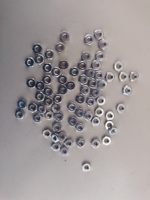nut: (26, 78, 37, 89), (60, 31, 70, 42), (55, 43, 66, 53), (45, 49, 55, 60), (32, 44, 43, 54), (34, 55, 45, 65), (25, 58, 36, 68), (96, 51, 106, 62), (82, 51, 92, 62), (67, 102, 77, 113), (84, 111, 94, 122), (92, 60, 102, 71), (98, 80, 108, 91), (85, 68, 96, 78), (17, 100, 27, 110), (15, 110, 25, 120), (33, 114, 43, 124), (28, 103, 38, 113), (35, 92, 45, 102), (43, 75, 53, 85), (43, 63, 53, 73), (59, 60, 69, 70), (70, 67, 80, 77), (85, 35, 95, 45), (95, 30, 105, 40), (99, 40, 109, 50), (106, 72, 116, 82), (115, 62, 125, 72), (119, 72, 129, 82), (130, 72, 140, 82), (123, 86, 133, 96), (117, 104, 127, 114), (97, 96, 107, 106), (106, 111, 116, 121), (95, 108, 105, 118), (86, 97, 96, 107), (76, 95, 86, 105), (58, 86, 68, 96), (66, 81, 76, 91), (58, 75, 68, 85), (52, 67, 62, 77), (76, 138, 86, 148), (91, 139, 101, 149), (75, 108, 85, 118), (109, 126, 119, 136), (44, 87, 54, 97), (53, 94, 63, 104), (54, 112, 64, 122), (52, 104, 62, 114), (53, 123, 63, 133), (95, 71, 105, 81), (79, 75, 89, 85), (89, 79, 99, 89), (78, 61, 88, 71), (82, 163, 92, 173), (103, 136, 112, 146), (76, 123, 85, 133), (69, 117, 78, 127), (92, 117, 101, 127), (105, 121, 115, 130), (43, 129, 52, 139), (91, 88, 100, 98), (81, 85, 90, 95), (45, 111, 54, 120), (38, 105, 47, 114), (52, 143, 61, 152), (65, 140, 74, 149), (58, 133, 67, 142), (51, 134, 60, 143), (60, 148, 70, 156), (37, 81, 45, 91), (44, 98, 52, 107)
